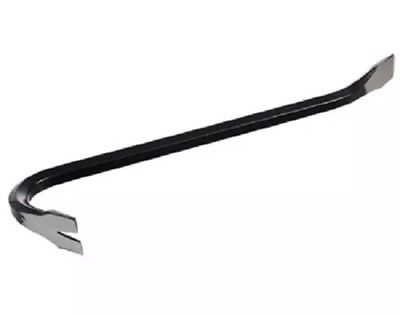crowbar: (11, 46, 394, 261)
